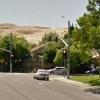Tree: (72, 3, 100, 85)
